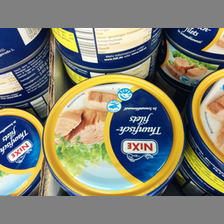fish: (42, 74, 185, 196), (184, 64, 224, 194), (1, 106, 45, 196)
